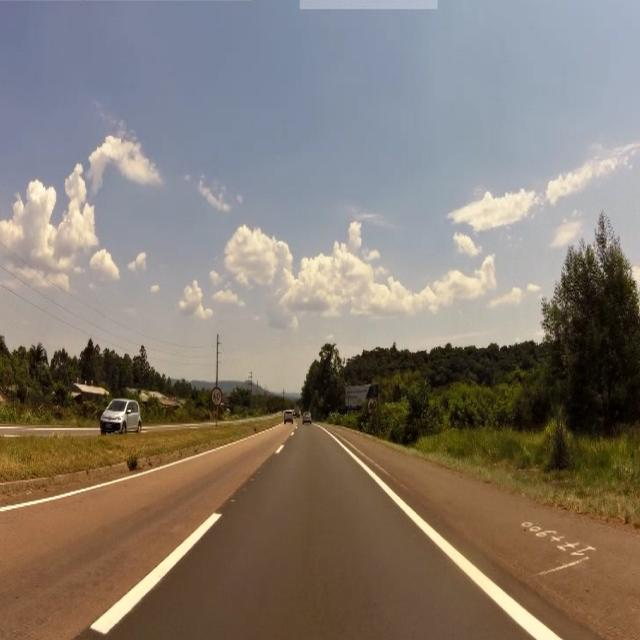R-19: (368, 401, 380, 417), (212, 388, 222, 407)
